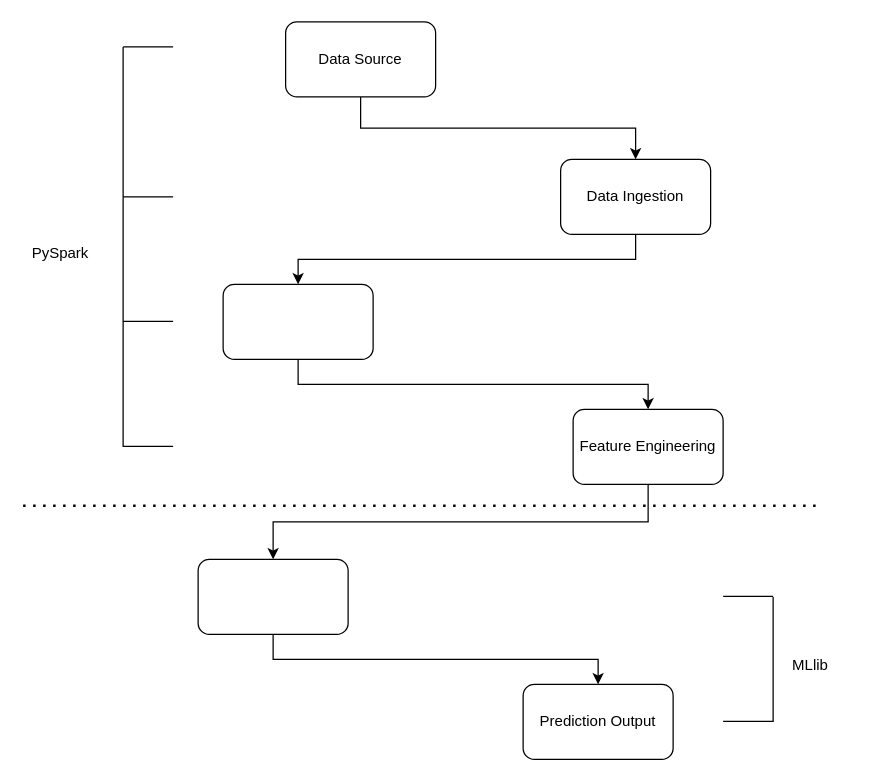
Some shapes in this 869 by 781 pixel diagram are drawn without their labels. The box of each missing label's shape, as (x1, y1, x2, y2) in pixels:
Data Cleaning & Preparation: (222, 283, 373, 359)
Model Training & Evaluation: (197, 558, 348, 634)
